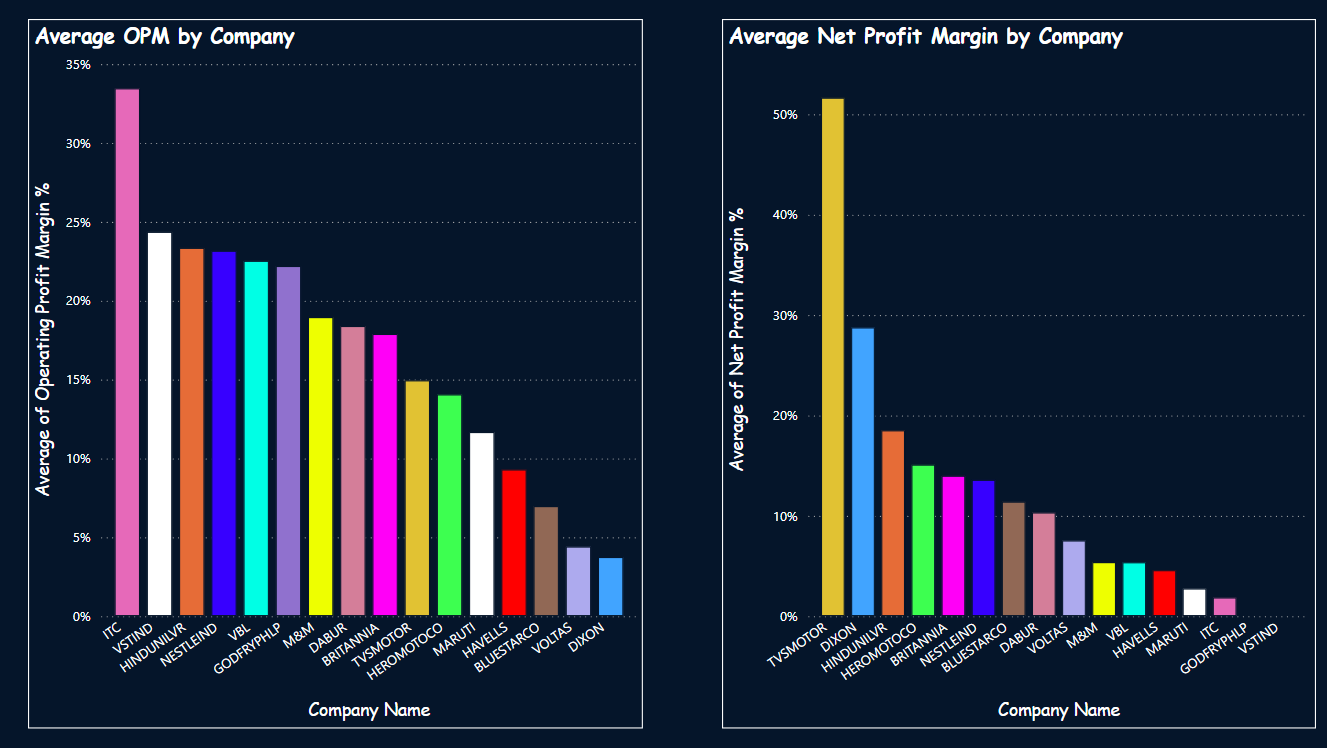

This screenshot's page, from the dashboard's own definition file:
{"tool":"powerbi","page":{"name":"Company Performance 2","canvas":[1280,720],"ordinal":3},"visuals":[{"type":"clusteredColumnChart","title":"Average Net Profit Margin by Company","fields":{"Category":["Analysis Data.Company Name"],"Y":["Avg(Analysis Data.Net Profit Margin %)"]},"box":[689.6,33.1,539.8,644.9],"z":0},{"type":"clusteredColumnChart","title":"Average OPM by Company","fields":{"Category":["Analysis Data.Company Name"],"Y":["Avg(Analysis Data.Operating Profit Margin %)"]},"box":[59.3,33.1,559.3,644.9],"z":1000}]}

Visuals, with their boxes in screenshot pixels (x1, y1, x2, y2), scaled from the page's 1280x720 canvas onto the 1327x748 screenshot:
"Average Net Profit Margin by Company" clusteredColumnChart: 715 34 1275 704
"Average OPM by Company" clusteredColumnChart: 61 34 641 704
